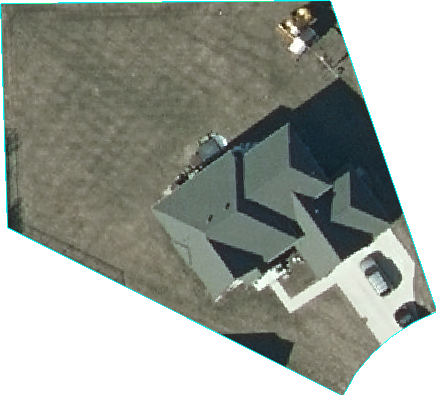house: (151, 122, 397, 308)
